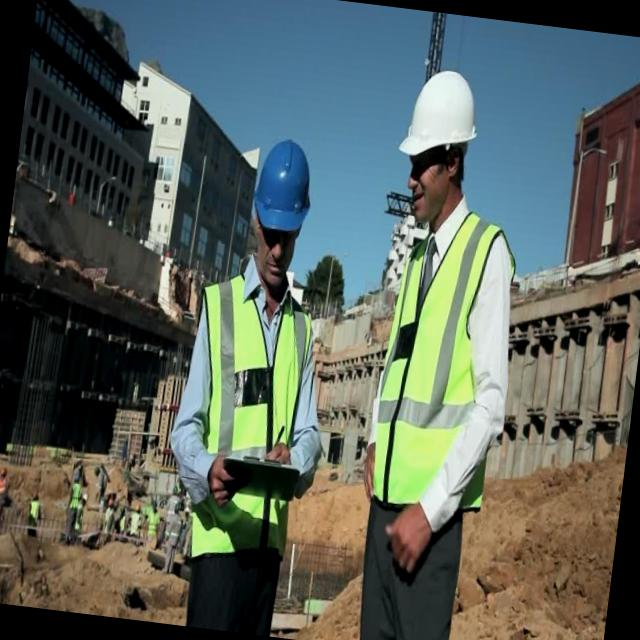goggles: (406, 144, 455, 189), (249, 212, 305, 251)
helmet: (394, 54, 485, 172), (243, 131, 320, 248)
vest: (166, 268, 323, 580), (364, 212, 512, 523)
